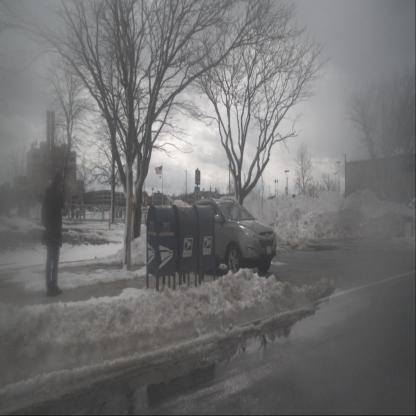human-pedestrian-adult: (42, 174, 68, 297)
vehicle-car: (187, 198, 277, 275), (89, 206, 99, 213)
